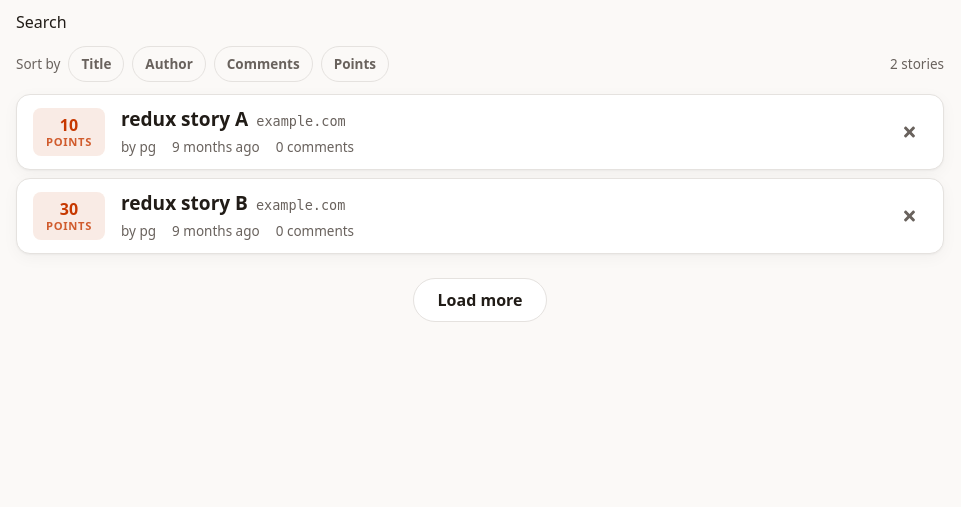
App › loads the next page and adds it to the list
The width and height of the screenshot is (961, 507).
Expected: the link "redux story A" is shown, [121, 106, 248, 132]
Click the button "Load more" at [480, 300], box [412, 278, 547, 322]
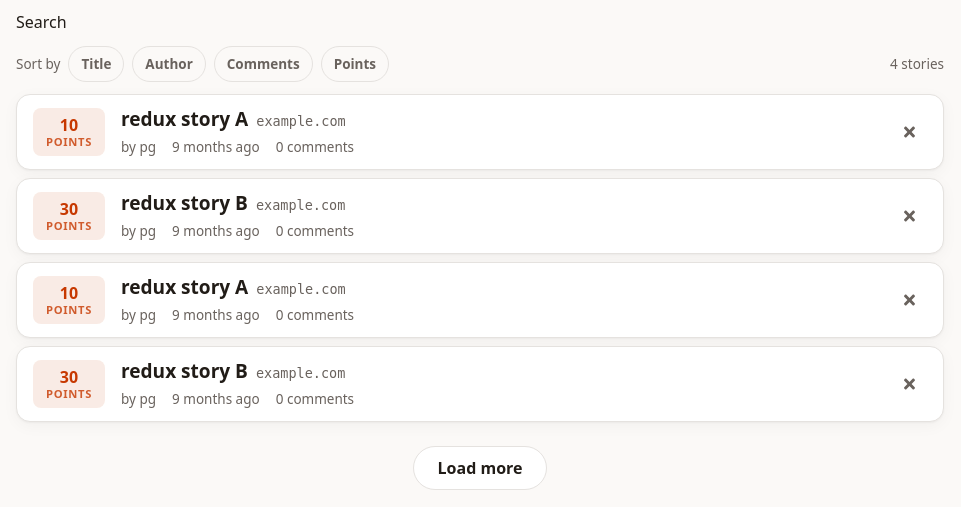
Expected: the text "4 stories" is shown, [890, 54, 944, 74]
